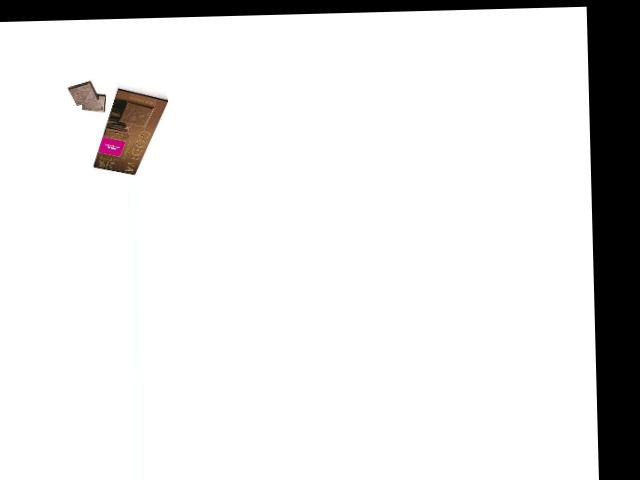chocolate: (89, 85, 170, 177)
